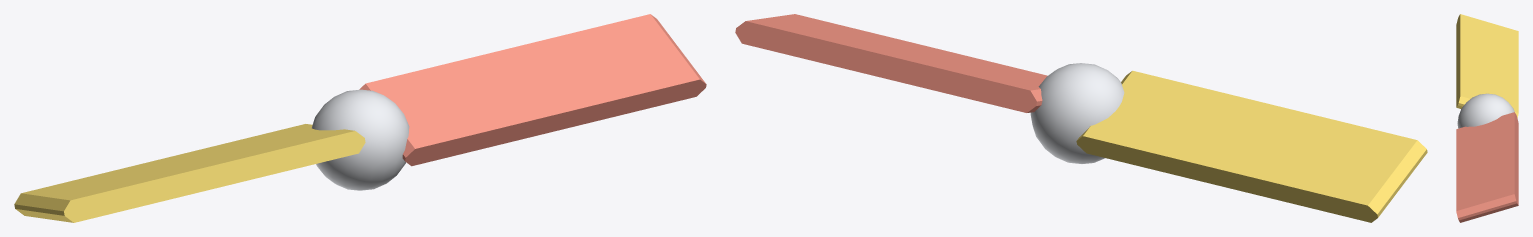
The model's file is driver_topper_propeller.glb.
3 renders of one model, left to right at view 1: azimuth 30°, elevation 25°; view 2: azimuth 150°, elevation 25°; view 3: azimuth 270°, elevation 25°, orthographic. The views are drawn at different scales.
Parts seen in each view (by area): view 1: topper_flame, topper_accent, topper_chrome; view 2: topper_accent, topper_flame, topper_chrome; view 3: topper_flame, topper_accent, topper_chrome.
Part boxes in pixels (x1,y1,x2,y2): topper_flame: [359, 14, 706, 166]; topper_accent: [14, 124, 365, 222]; topper_chrome: [312, 89, 409, 190]; topper_accent: [1076, 70, 1427, 222]; topper_flame: [735, 14, 1047, 112]; topper_chrome: [1030, 63, 1124, 163]; topper_flame: [1456, 112, 1518, 222]; topper_accent: [1456, 14, 1518, 117]; topper_chrome: [1457, 93, 1514, 128].
Size of the model in its own units: 0.368 by 0.0506 by 0.0528.
